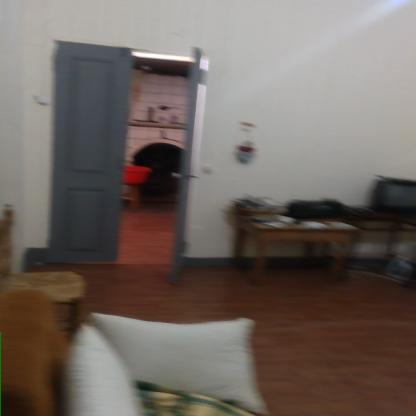open: (36, 34, 210, 294)
